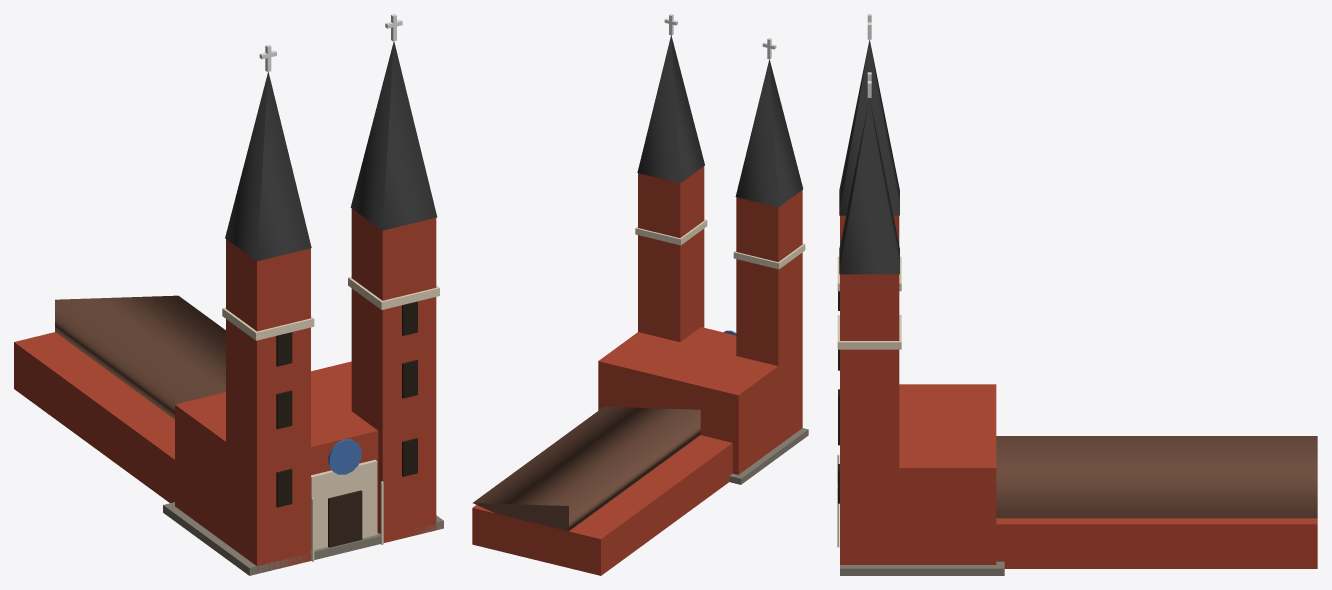
File: duc-ba.glb
The picture shows the model from 3 angles, left to right: view 1: azimuth 30°, elevation 25°; view 2: azimuth 150°, elevation 25°; view 3: azimuth 270°, elevation 25°; orthographic projection. The views are drawn at different scales.
Parts seen in each view (by area): view 1: duc-ba; view 2: duc-ba; view 3: duc-ba.
Boxes of the visible parts, x1,y1,x2,y2 form: duc-ba: [14, 14, 443, 575]; duc-ba: [472, 14, 808, 575]; duc-ba: [837, 14, 1317, 575].
Size of the model in its own units: 13 by 32.6 by 29.16.
